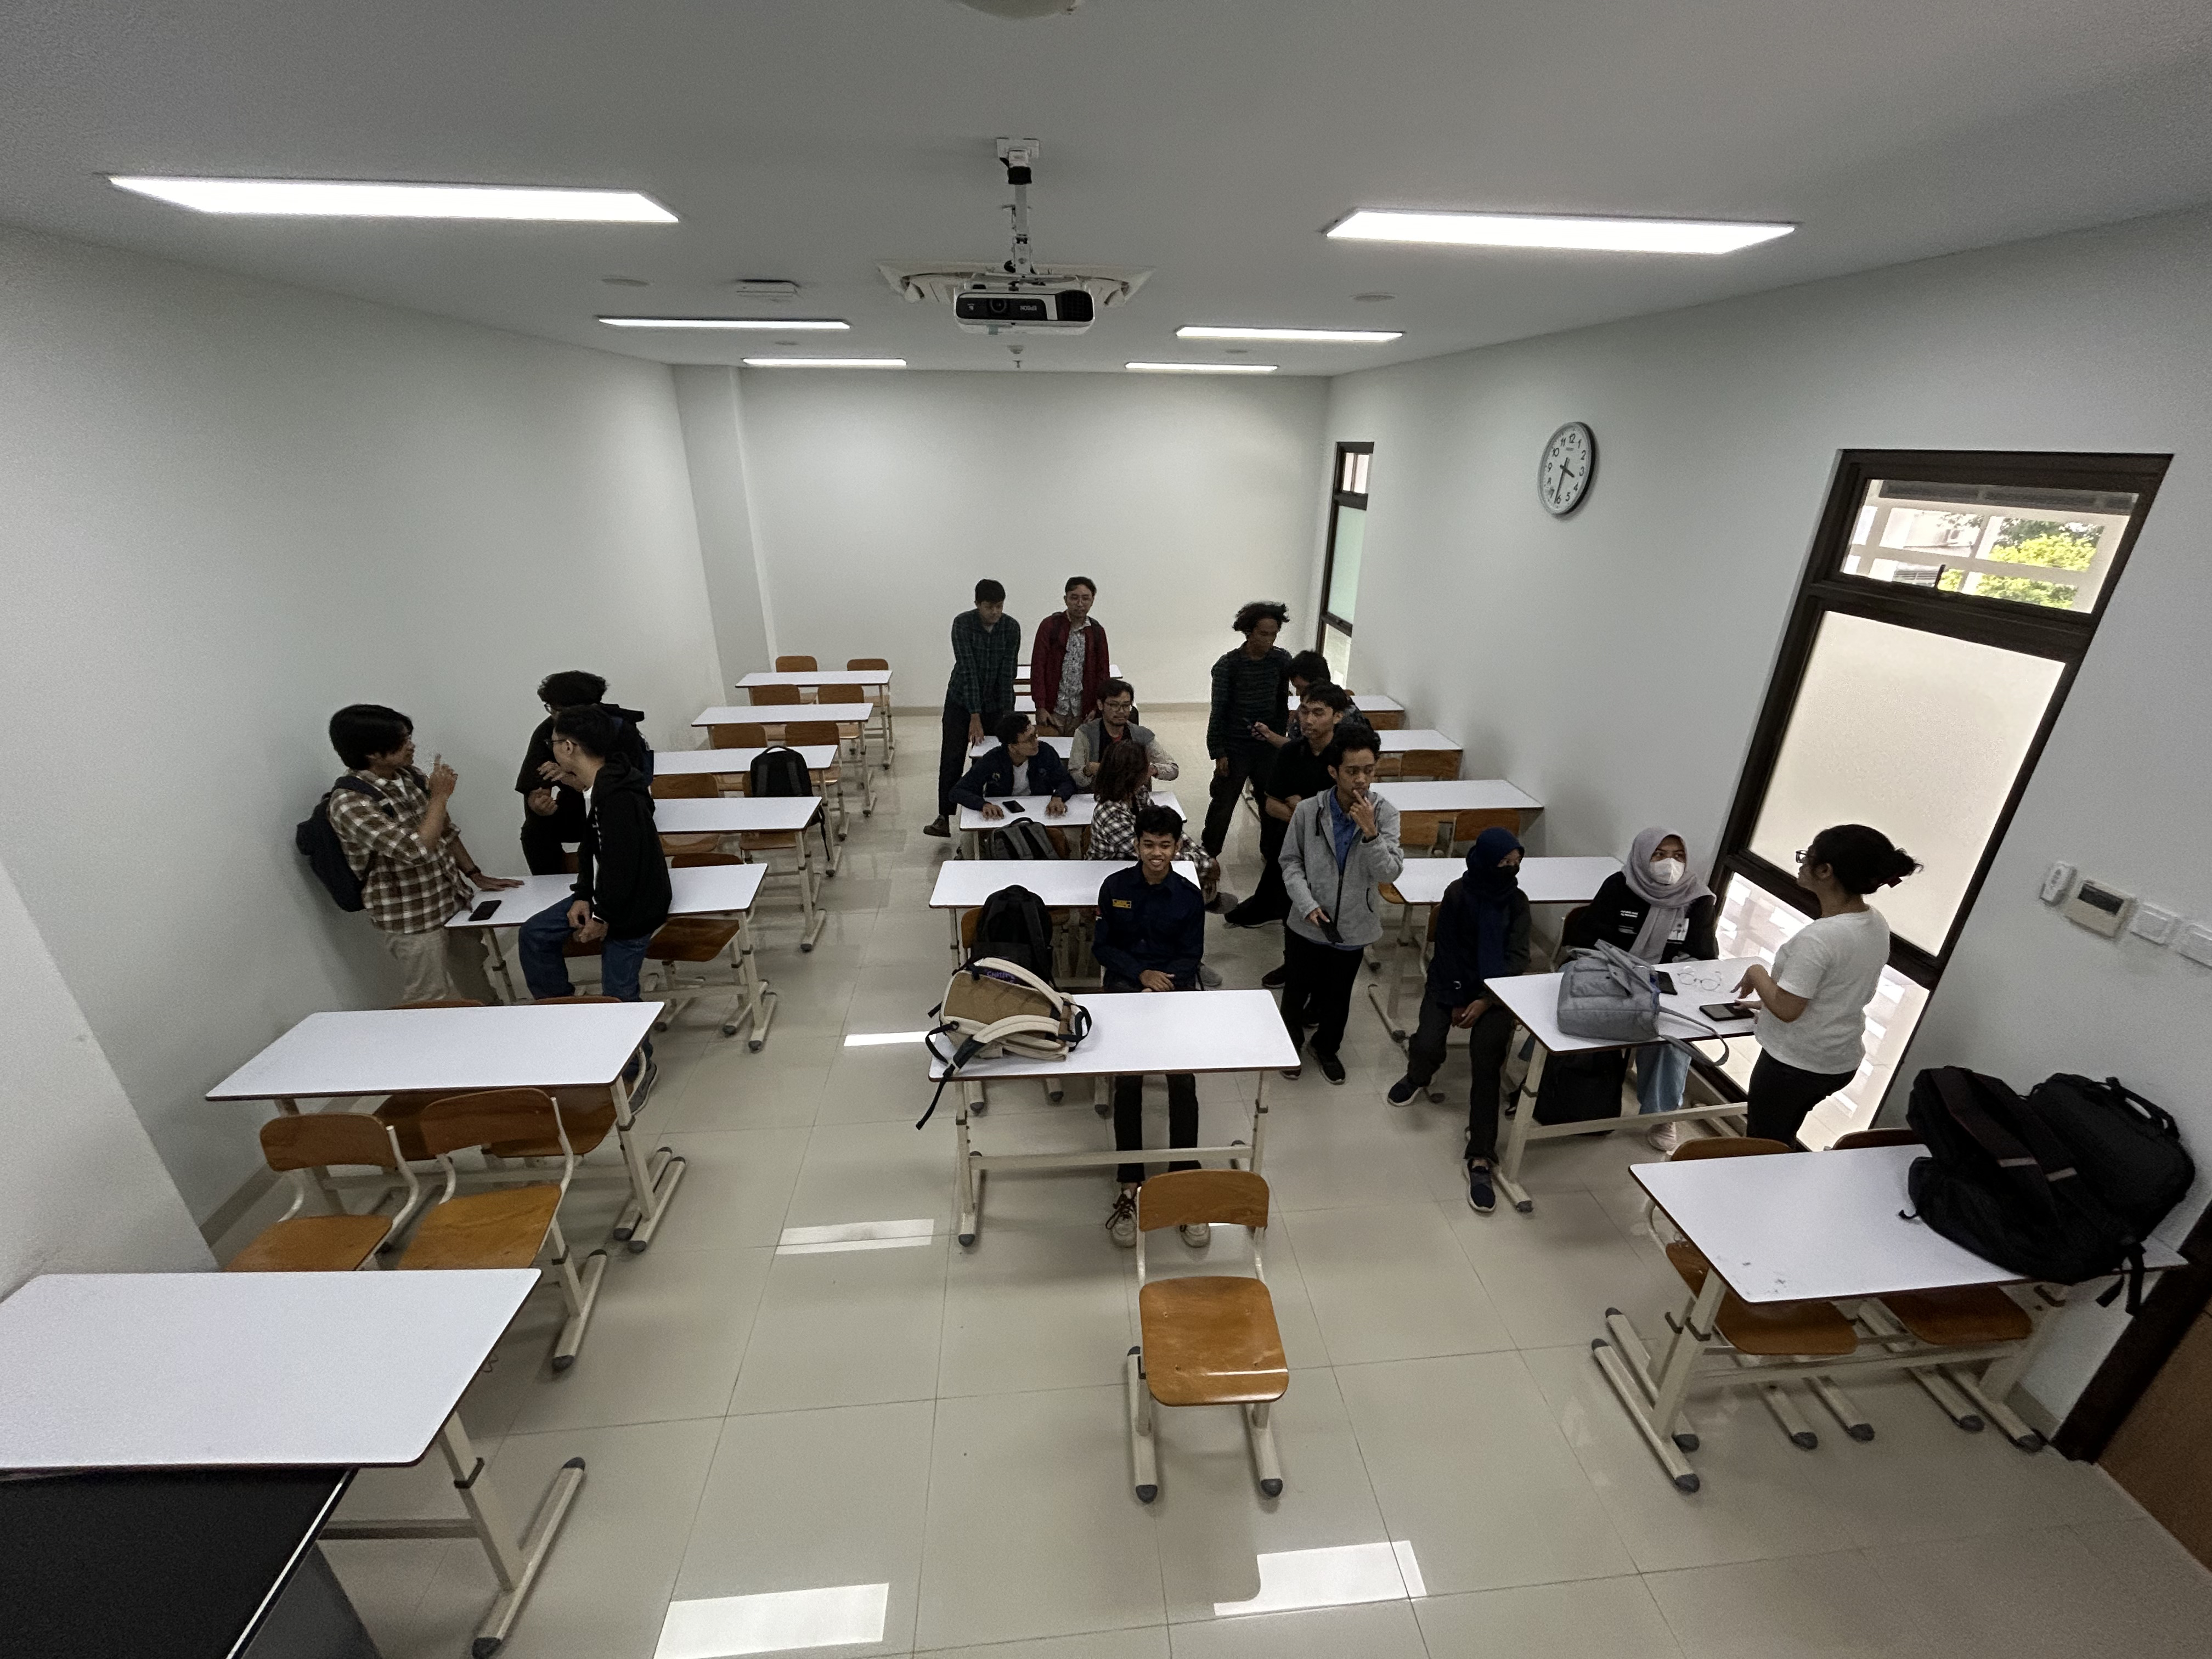person: (1737, 803, 1914, 1144), (1413, 821, 1549, 1242), (289, 695, 480, 985), (1281, 735, 1402, 1105), (540, 707, 676, 1017), (1094, 806, 1216, 1001), (1590, 819, 1737, 981), (947, 716, 1071, 820), (940, 575, 1025, 704), (1030, 572, 1132, 673), (1284, 681, 1349, 740), (1088, 746, 1159, 800), (1227, 600, 1285, 658), (1093, 682, 1141, 734)
